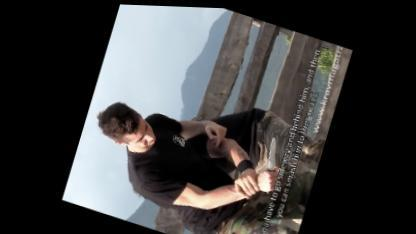knife: (252, 127, 291, 195)
